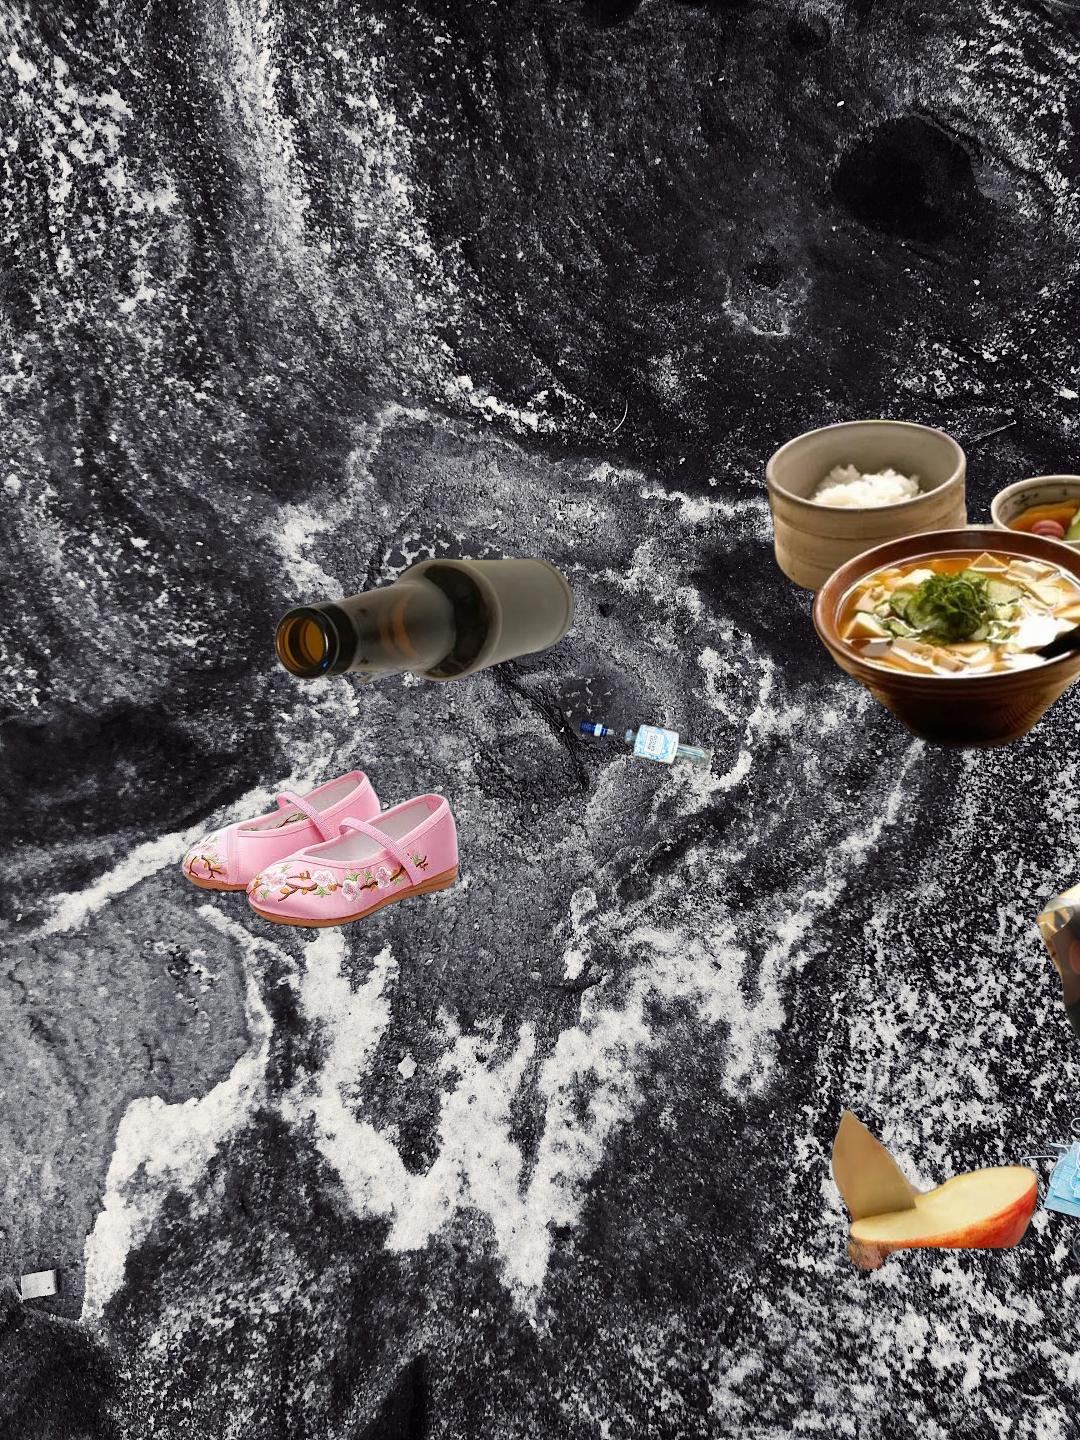biological: (760, 416, 1080, 755), (829, 1107, 1080, 1269)
glass: (569, 691, 877, 831), (270, 556, 579, 687)
paper: (1031, 790, 1080, 1172)
shoes: (180, 766, 462, 932)
trash: (1015, 1102, 1080, 1285)
